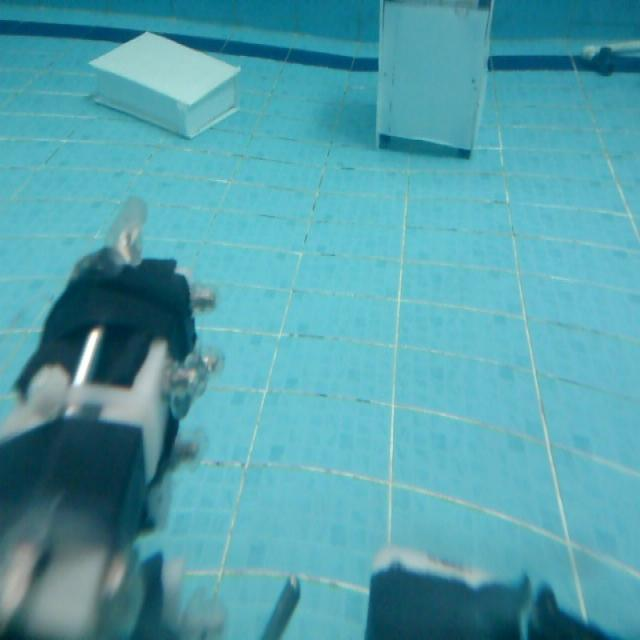Cube: (372, 0, 498, 158)
Cuboid: (87, 28, 241, 139)
